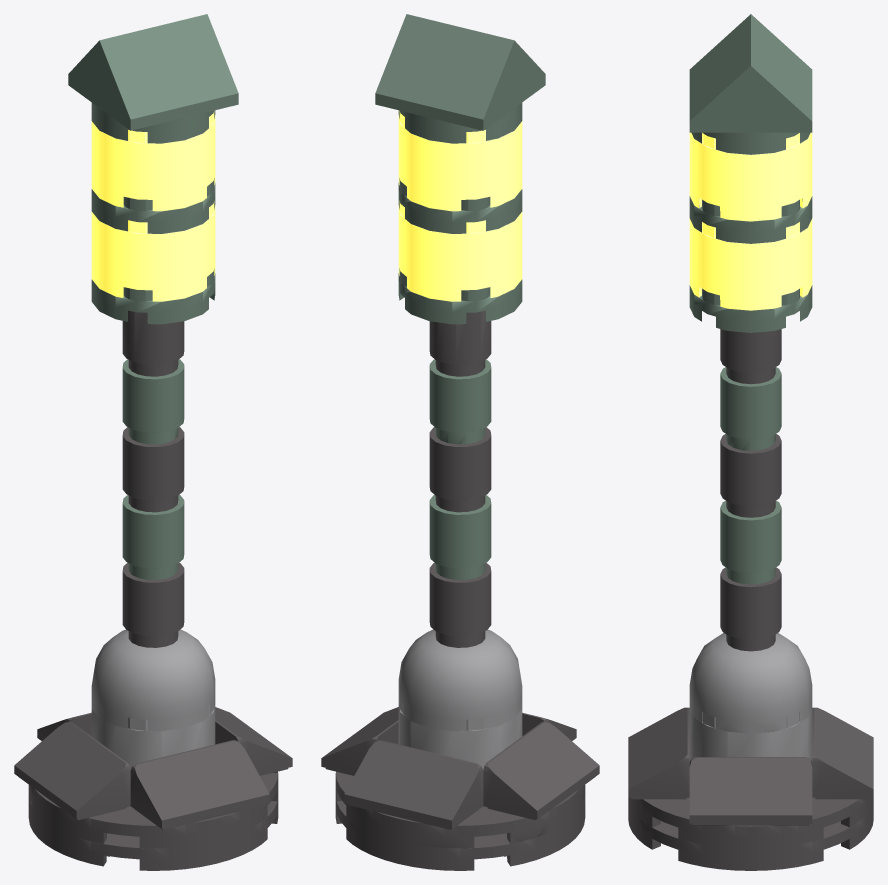
File: Lego_Streetlight.fbx
3 renders of one model, left to right at view 1: azimuth 30°, elevation 25°; view 2: azimuth 150°, elevation 25°; view 3: azimuth 270°, elevation 25°, orthographic.
Parts seen in each view (by area): view 1: 00001_60474.dat, 00013_6143.dat; view 2: 00001_60474.dat, 00013_6143.dat; view 3: 00001_60474.dat, 00013_6143.dat.
Part boxes in pixels (left/top/right/bottom): 00001_60474.dat: left=14, top=14, right=292, bottom=870; 00013_6143.dat: left=91, top=111, right=215, bottom=301; 00001_60474.dat: left=321, top=14, right=599, bottom=870; 00013_6143.dat: left=398, top=111, right=522, bottom=301; 00001_60474.dat: left=628, top=14, right=873, bottom=870; 00013_6143.dat: left=689, top=132, right=812, bottom=310.
Bounding box in the file's own units: 0.8 × 2.8 × 0.8.
